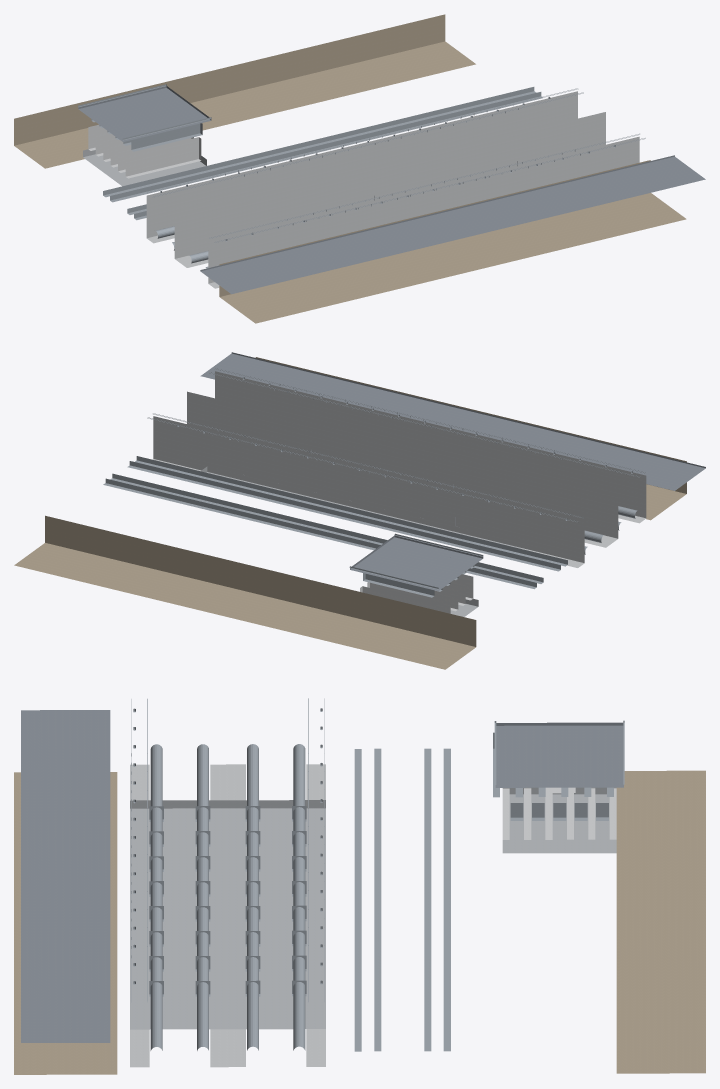
The model's file is qishi-z3-lock.glb.
3 views of the same model, one above another, from view 1: azimuth 30°, elevation 25°; view 2: azimuth 150°, elevation 25°; view 3: azimuth 270°, elevation 25° (orthographic). The views are drawn at different scales.
Parts seen in each view (by area): view 1: concrete_structure, earth_structure, road_aux, steel_structure, steel_detail, concreteLight_structure, concreteDark_structure; view 2: concrete_structure, earth_structure, road_aux, steel_structure, steel_detail, concreteLight_structure, concreteDark_structure; view 3: road_aux, concreteDark_structure, earth_structure, steel_structure, concrete_structure, steel_aux, concreteLight_structure, steel_detail, steel_gate.
Part boxes in pixels (box(x1,y1,x2,y2)): concrete_structure: box(146, 91, 639, 288); earth_structure: box(14, 14, 686, 323); road_aux: box(78, 86, 705, 294); steel_structure: box(103, 87, 542, 268); steel_detail: box(91, 88, 645, 243); concreteLight_structure: box(88, 124, 201, 178); concreteDark_structure: box(83, 149, 206, 186); concrete_structure: box(153, 371, 646, 567); earth_structure: box(14, 357, 686, 669); road_aux: box(200, 352, 705, 591); steel_structure: box(103, 456, 637, 589); steel_detail: box(147, 368, 645, 597); concreteLight_structure: box(360, 574, 473, 613); concreteDark_structure: box(201, 466, 521, 616); road_aux: box(21, 710, 623, 1042); concreteDark_structure: box(130, 787, 616, 1029); earth_structure: box(14, 770, 705, 1074); steel_structure: box(150, 744, 450, 1051); concrete_structure: box(130, 764, 325, 1067); steel_aux: box(149, 720, 624, 996); concreteLight_structure: box(502, 787, 616, 839); steel_detail: box(131, 698, 613, 1002); steel_gate: box(510, 803, 608, 820).
Bounding box in the file's own units: 440 × 47.98 × 388.
7 materials, 7 textured.
